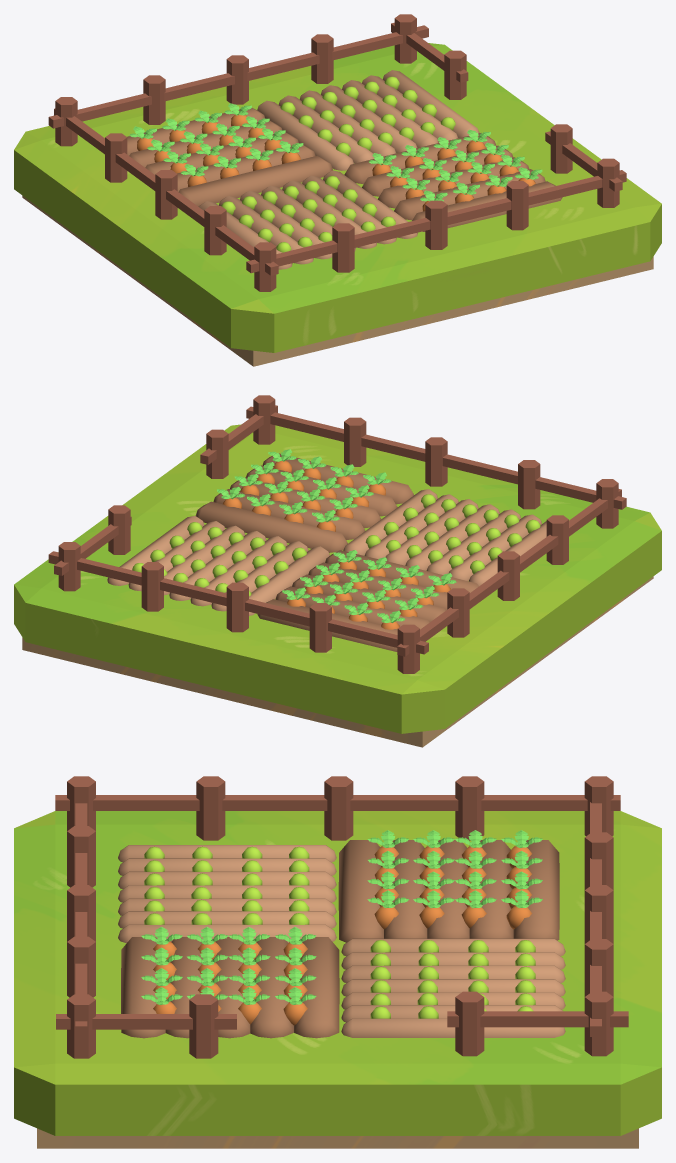
Rendered from acker.fbx.
3 views of the same model, one above another, from view 1: azimuth 30°, elevation 25°; view 2: azimuth 150°, elevation 25°; view 3: azimuth 270°, elevation 25° (orthographic). The views are drawn at different scales.
Visible parts, largest first — view 1: Cube.001, Cube.024, acker_waag1, acker_senk1, acker_waag2, acker_senk2, Cube, blatt.001, blatt, möhren.001, möhren.002, möhren.003 (+1 smaller); view 2: Cube.001, Cube.024, acker_waag2, acker_senk2, acker_waag1, acker_senk1, Cube, blatt, blatt.001, möhren.002, möhren.001, möhren (+1 smaller); view 3: Cube.001, Cube.024, acker_waag1, acker_waag2, acker_senk1, acker_senk2, Cube, blatt.001, blatt, möhren.002, möhren.001, möhren.003 (+1 smaller).
Part boxes in pixels (left/top/right/bottom): Cube.001: left=14, top=43, right=661, bottom=352; Cube.024: left=48, top=14, right=626, bottom=291; acker_waag1: left=257, top=70, right=479, bottom=170; acker_senk1: left=127, top=108, right=332, bottom=206; acker_waag2: left=198, top=170, right=417, bottom=269; acker_senk2: left=344, top=133, right=562, bottom=231; Cube: left=22, top=195, right=653, bottom=366; blatt.001: left=129, top=103, right=303, bottom=176; blatt: left=369, top=129, right=542, bottom=201; möhren.001: left=280, top=76, right=455, bottom=155; möhren.002: left=221, top=176, right=395, bottom=252; möhren.003: left=137, top=114, right=300, bottom=186; Cube.001: left=14, top=424, right=661, bottom=733; Cube.024: left=48, top=395, right=626, bottom=673; acker_waag2: left=343, top=489, right=546, bottom=586; acker_senk2: left=195, top=453, right=413, bottom=552; acker_waag1: left=107, top=516, right=329, bottom=615; acker_senk1: left=257, top=550, right=478, bottom=651; Cube: left=22, top=576, right=653, bottom=747; blatt: left=217, top=449, right=391, bottom=522; blatt.001: left=282, top=550, right=456, bottom=622; möhren.002: left=365, top=494, right=540, bottom=574; möhren.001: left=132, top=522, right=306, bottom=596; möhren: left=223, top=460, right=385, bottom=531; Cube.001: left=14, top=811, right=661, bottom=1135; Cube.024: left=55, top=776, right=628, bottom=1058; acker_waag1: left=341, top=938, right=565, bottom=1037; acker_waag2: left=118, top=845, right=336, bottom=943; acker_senk1: left=338, top=840, right=559, bottom=942; acker_senk2: left=121, top=937, right=339, bottom=1038; Cube: left=37, top=1128, right=638, bottom=1148; blatt.001: left=367, top=830, right=542, bottom=908; blatt: left=141, top=927, right=316, bottom=1004; möhren.002: left=144, top=846, right=309, bottom=924; möhren.001: left=370, top=940, right=535, bottom=1018; möhren.003: left=374, top=846, right=531, bottom=929.
Bounding box in the file's own units: 108 × 24.08 × 108.
8 materials, 2 textured.
